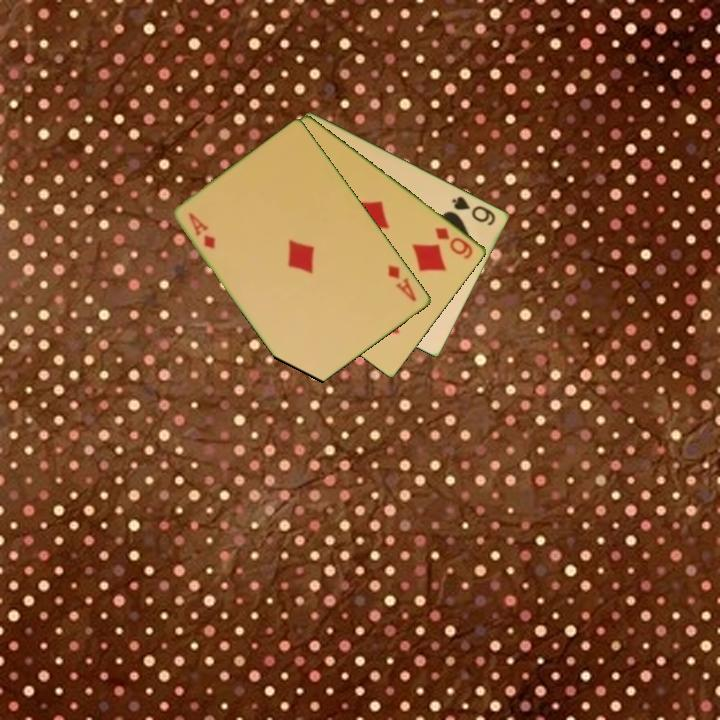6d: (431, 224, 476, 262)
6s: (448, 192, 499, 228)
Ad: (384, 261, 420, 304), (185, 209, 219, 252)
